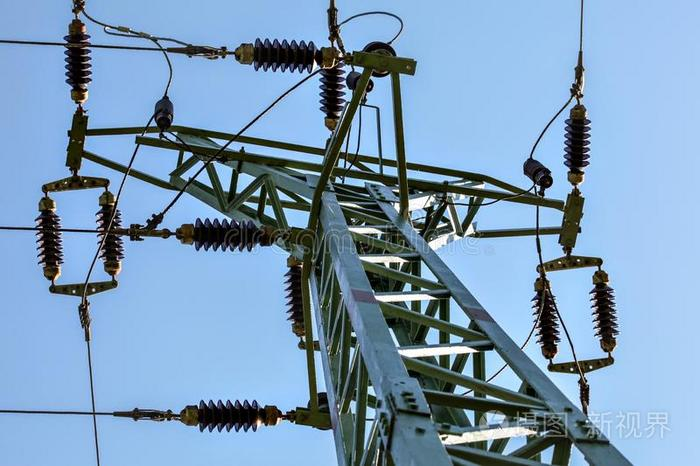insulator: (193, 396, 262, 436), (194, 214, 259, 255), (251, 37, 315, 77), (529, 289, 563, 348), (34, 210, 67, 270), (60, 31, 96, 84), (95, 207, 126, 267), (560, 117, 597, 167), (585, 285, 620, 337), (316, 59, 344, 115)
